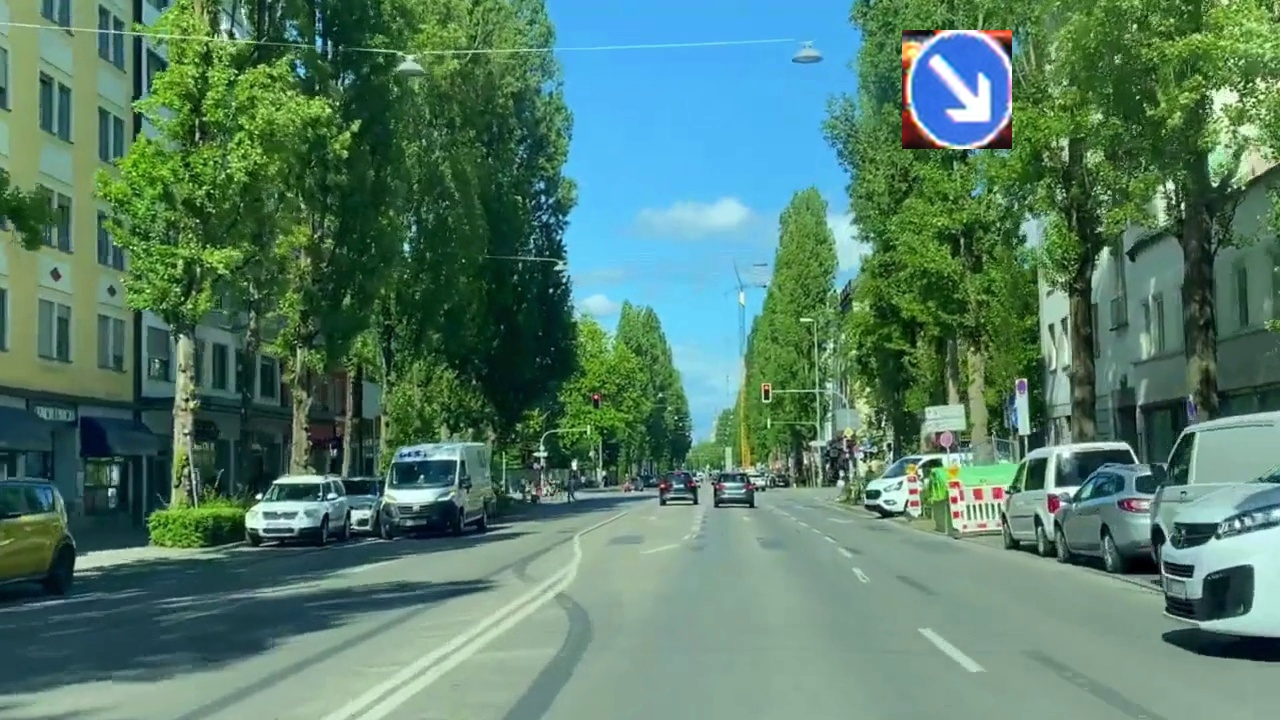Keep right: (902, 30, 1012, 149)
